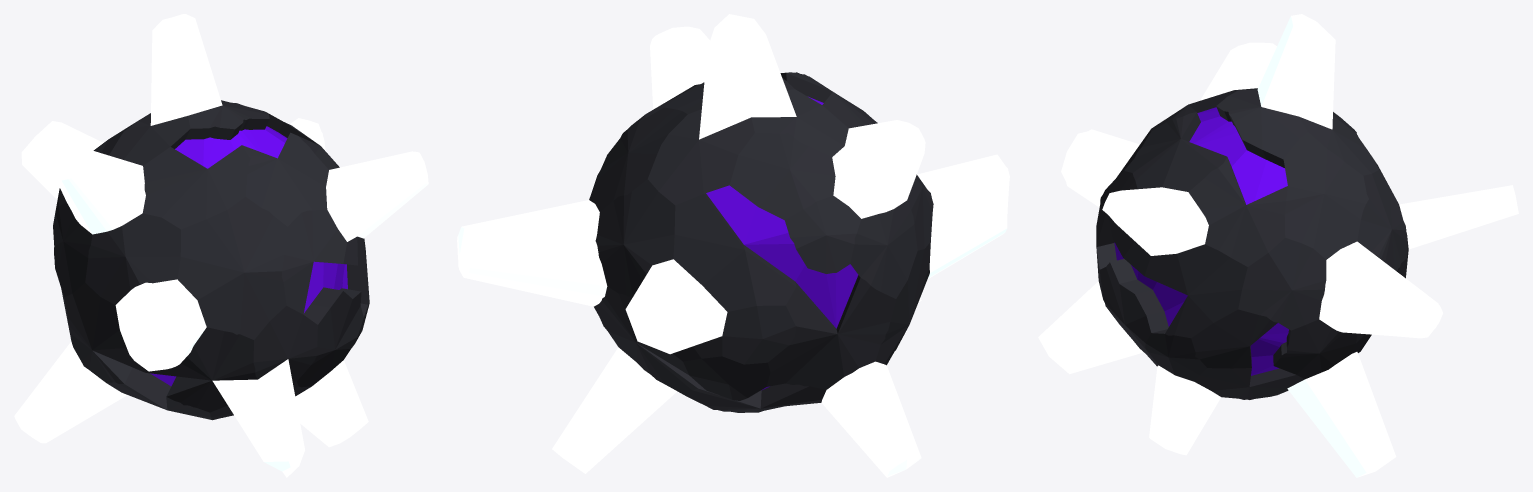
File: Planet2Evo3.glb
The picture shows the model from 3 angles, left to right: view 1: azimuth 30°, elevation 25°; view 2: azimuth 150°, elevation 25°; view 3: azimuth 270°, elevation 25°; orthographic projection. The views are drawn at different scales.
Parts seen in each view (by area): view 1: Icosphere.018; view 2: Icosphere.018; view 3: Icosphere.018.
Part boxes in pixels (x1,y1,x2,y2): Icosphere.018: [14, 14, 428, 477]; Icosphere.018: [457, 14, 1009, 477]; Icosphere.018: [1038, 14, 1518, 477].
Size of the model in its own units: 2.22 by 2.4 by 2.6.
